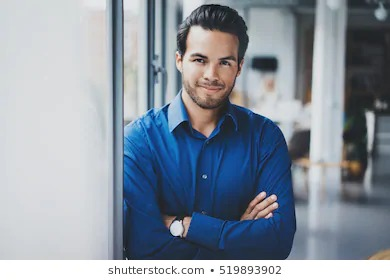F_shirt: (123, 88, 296, 256)
